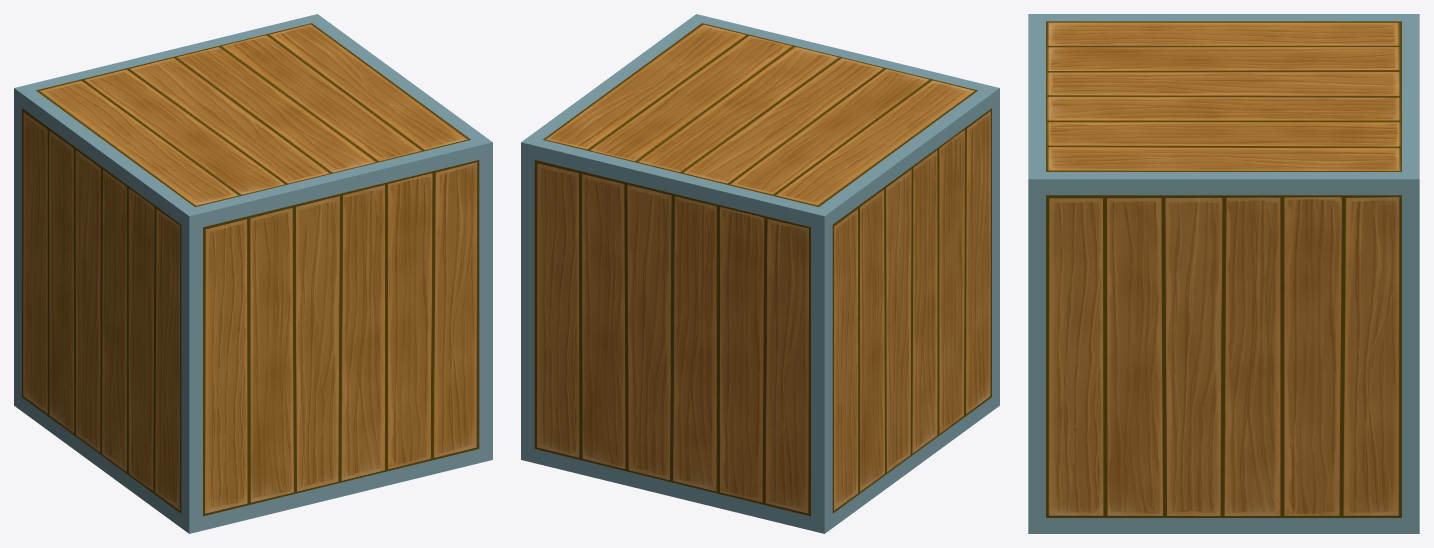
File: woodcrate.fbx
3 views of the same model, side by side, from view 1: azimuth 30°, elevation 25°; view 2: azimuth 150°, elevation 25°; view 3: azimuth 270°, elevation 25° (orthographic). The views are drawn at different scales.
Visible parts, largest first — view 1: WoodCrate; view 2: WoodCrate; view 3: WoodCrate.
Boxes of the visible parts, left/top/right/bottom form: WoodCrate: left=14, top=14, right=492, bottom=533; WoodCrate: left=521, top=14, right=999, bottom=533; WoodCrate: left=1028, top=14, right=1419, bottom=533.
Bounding box in the file's own units: 2 × 2 × 2.
